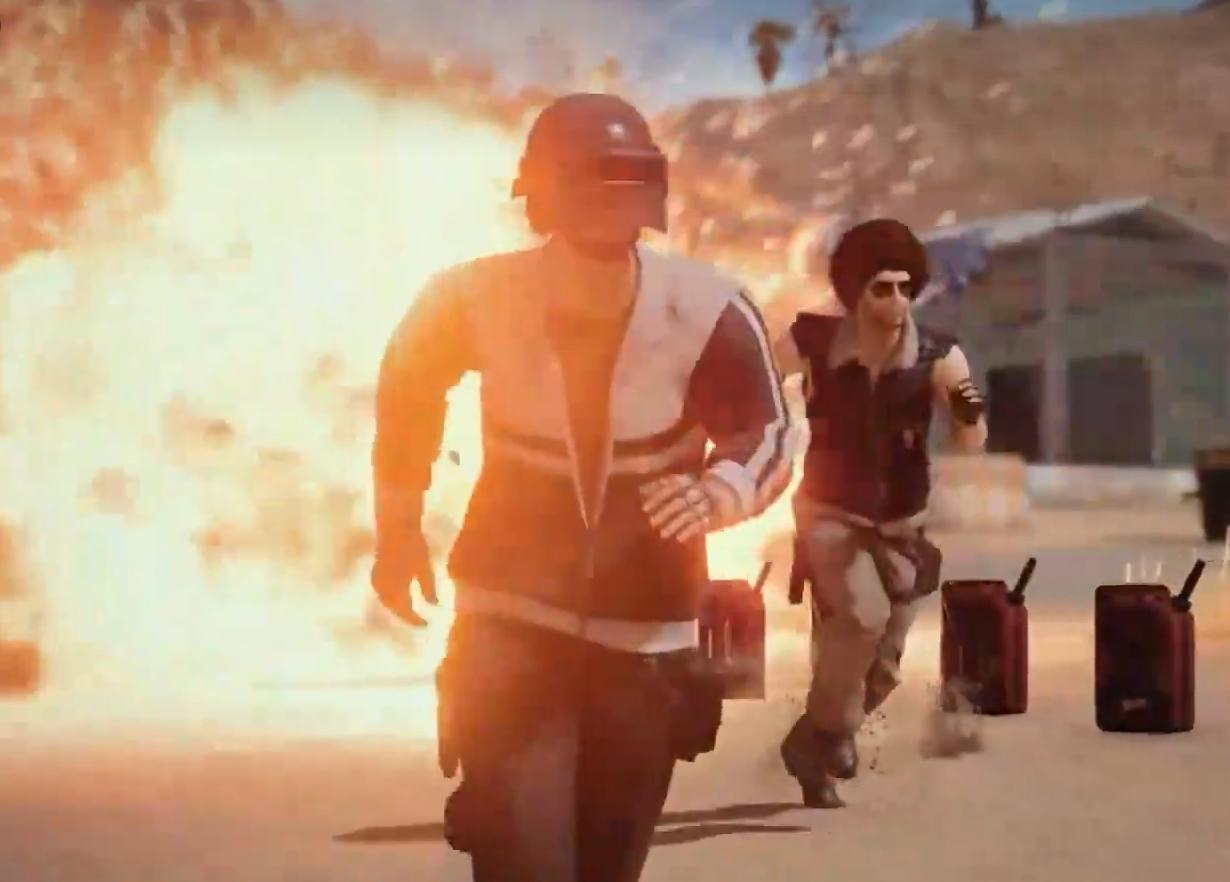fire: (0, 60, 788, 729)
